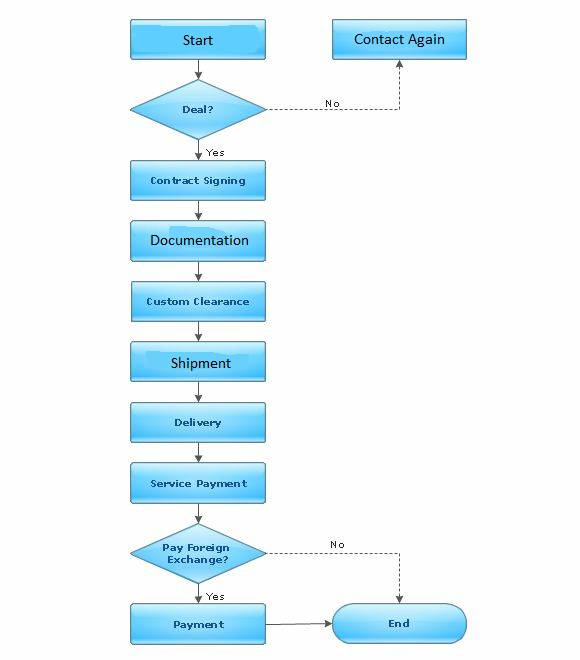arrow: (266, 549, 403, 604), (269, 60, 406, 112), (268, 621, 334, 629), (194, 442, 204, 466), (193, 323, 205, 342), (194, 382, 204, 401), (194, 61, 203, 82), (193, 586, 204, 603), (194, 504, 203, 523), (194, 203, 203, 220), (196, 138, 203, 159), (196, 264, 203, 281)
decision: (130, 80, 267, 142), (130, 524, 267, 584)
process: (129, 461, 270, 508), (128, 399, 268, 445), (130, 279, 269, 325), (129, 18, 269, 63), (128, 158, 268, 203), (129, 338, 269, 383), (331, 18, 470, 63), (128, 218, 270, 262), (130, 604, 268, 643)
terminator: (332, 604, 468, 646)
text: (159, 543, 230, 569), (148, 234, 251, 248), (143, 295, 251, 308), (150, 477, 250, 491), (353, 31, 446, 46), (150, 174, 248, 188), (169, 355, 234, 373), (172, 416, 224, 431), (171, 620, 226, 633), (180, 100, 216, 115), (182, 33, 215, 46), (386, 617, 412, 632), (204, 591, 229, 603), (326, 539, 349, 552), (205, 147, 227, 159), (322, 98, 344, 109)
